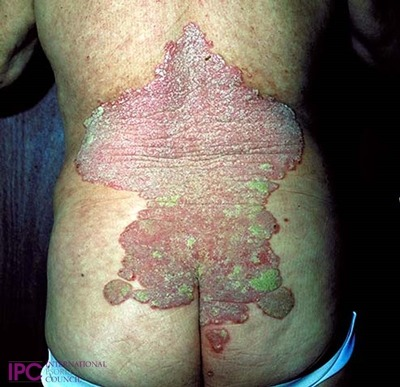Psoriasis: (70, 19, 301, 322), (201, 324, 235, 357)
